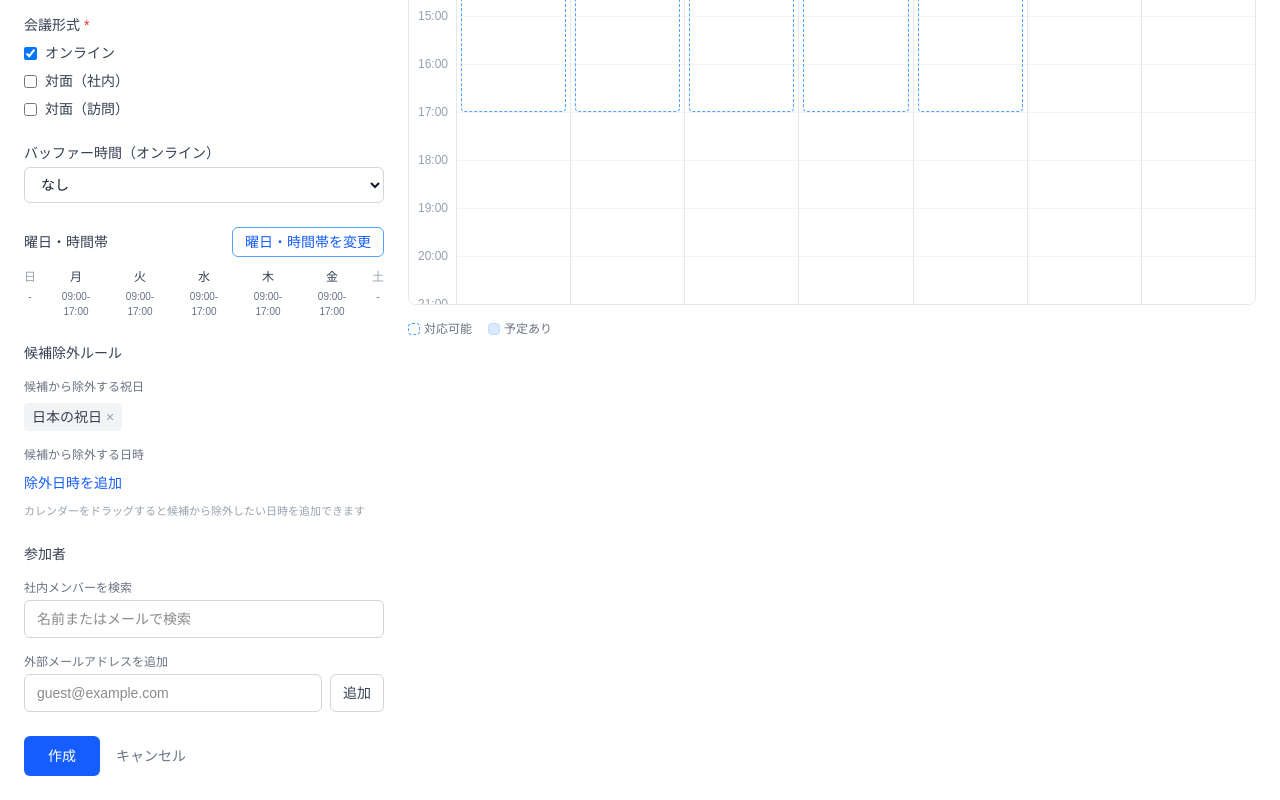
Test: ScheduleLinkForm › should show validation error for empty title
The width and height of the screenshot is (1280, 800).
(page scrolled)
Click the button "作成" at (62, 756), box [24, 736, 100, 776]
(page scrolled)
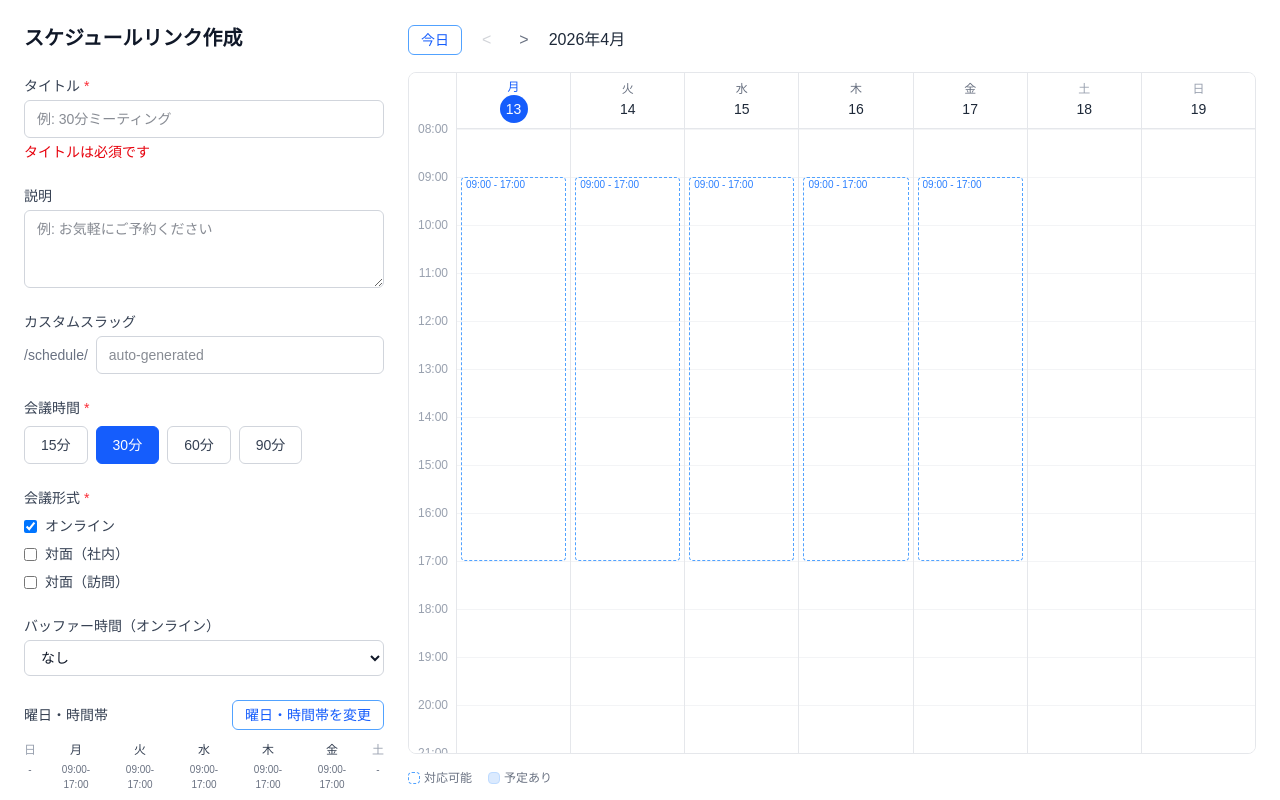
Result: the text "タイトルは必須です" is shown at [24, 144, 150, 160]
